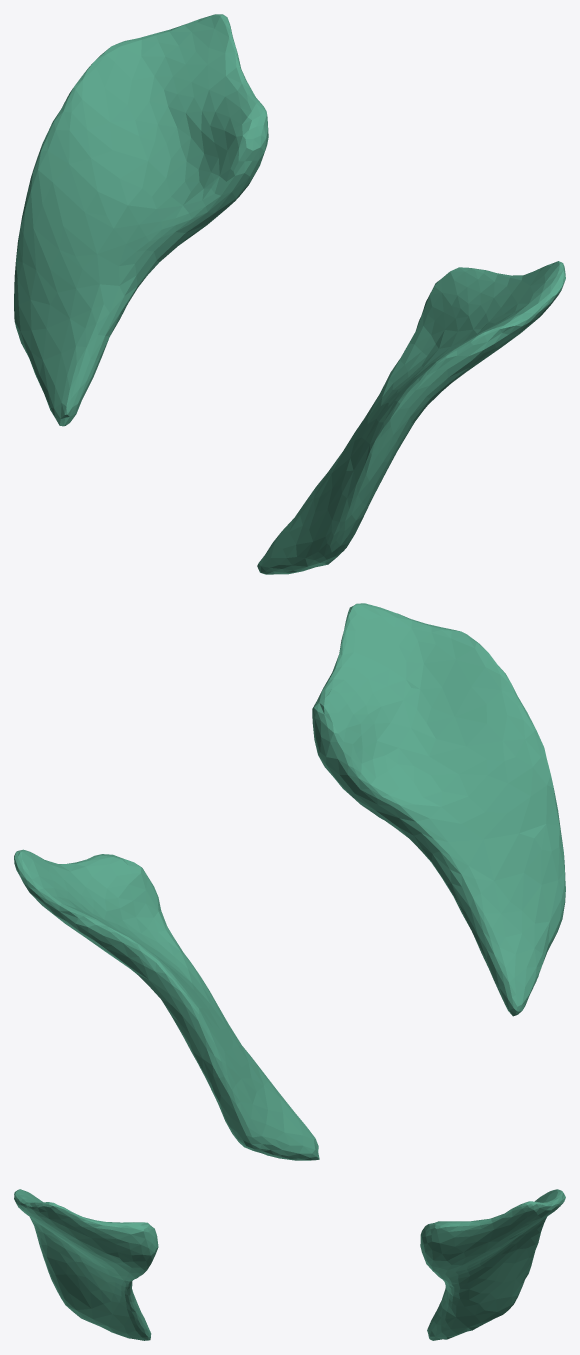
3 renders of one model, top to bottom at view 1: azimuth 30°, elevation 25°; view 2: azimuth 150°, elevation 25°; view 3: azimuth 270°, elevation 25°, orthographic. The views are drawn at different scales.
Parts seen in each view (by area): view 1: 412.obj; view 2: 412.obj; view 3: 412.obj.
Part boxes in pixels (left/top/right/bottom): 412.obj: left=14, top=14, right=565, bottom=574; 412.obj: left=14, top=603, right=565, bottom=1160; 412.obj: left=14, top=1189, right=565, bottom=1340.
Bounding box in the file's own units: 1446 × 1780 × 4107.
